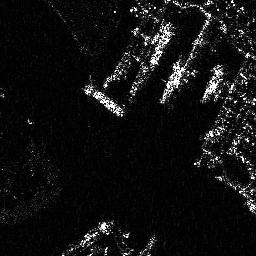ship: (57, 219, 117, 256)
